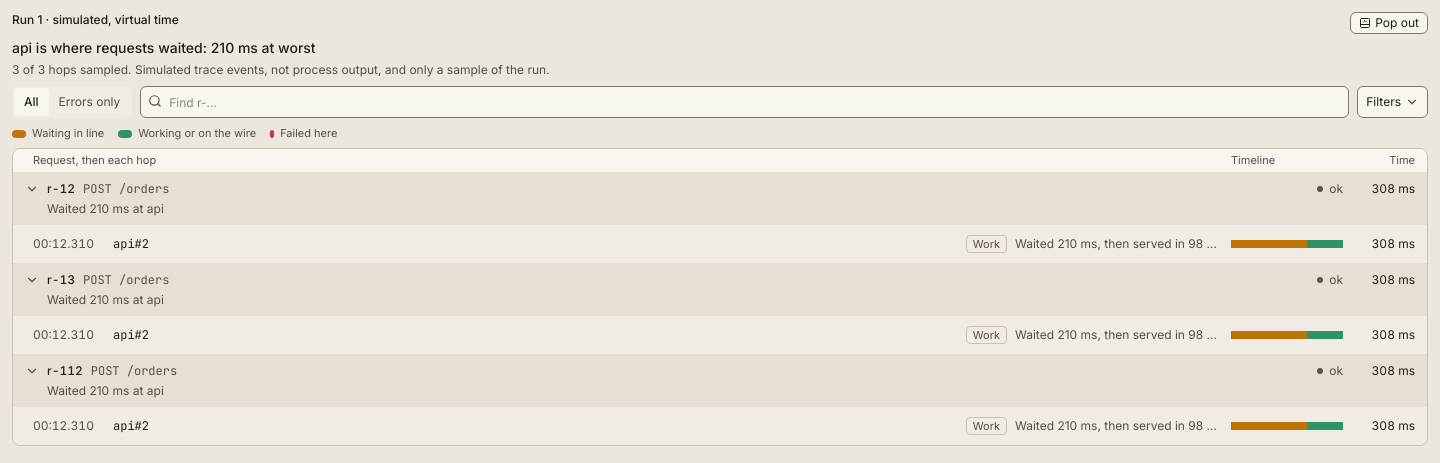
Scenario: a_request_number_keeps_only_matching_requests_and_no_match_names_the_filter
The image size is (1440, 463).
Check: the text "r-12" is shown, box [47,179,75,199]
In the search field named "Request": (745, 102) [140,86,1349,118], type "r-12"
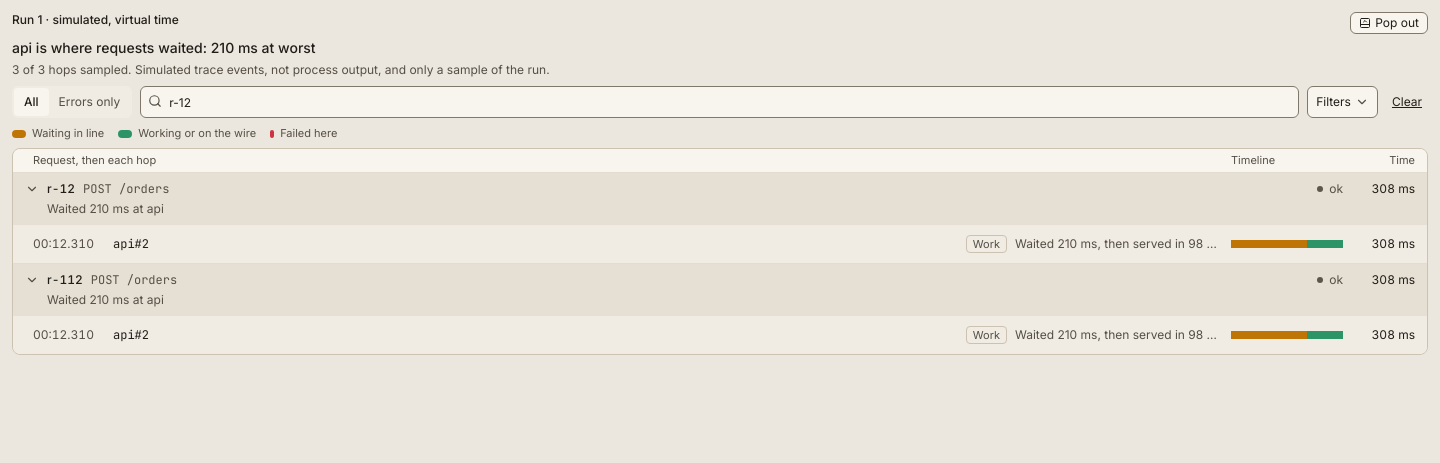
Check: the text "r-12" is shown, box [47,179,75,199]
Check: the button "r-13" is gone
Replace the text in the search field named "Request" with "9999": (720, 102) [140,86,1299,118]
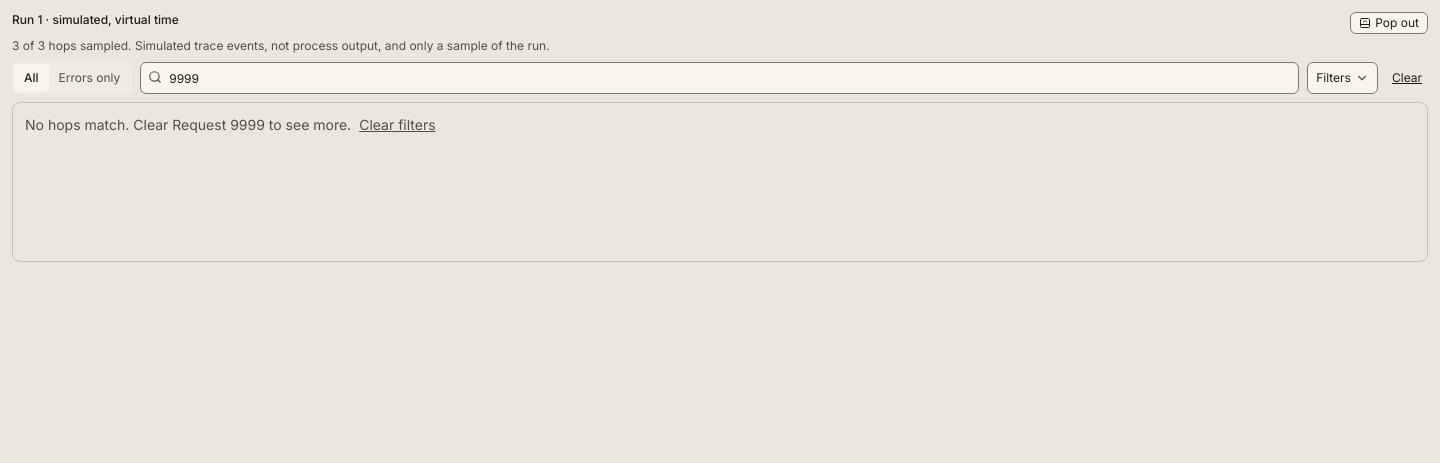
Check: the text "No hops match. Clear Request 9999 to see more. Clear filters" is shown, box [25,115,436,135]
Click the button "Clear filters": (397, 125) [359,115,436,135]
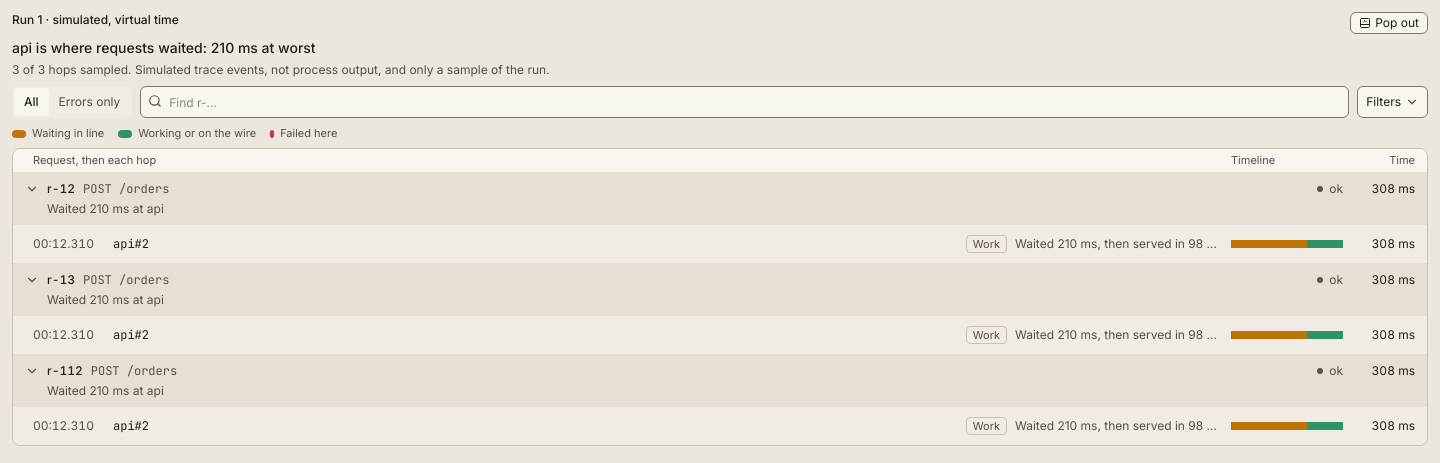
Check: the text "r-13" is shown, box [47,270,75,290]
